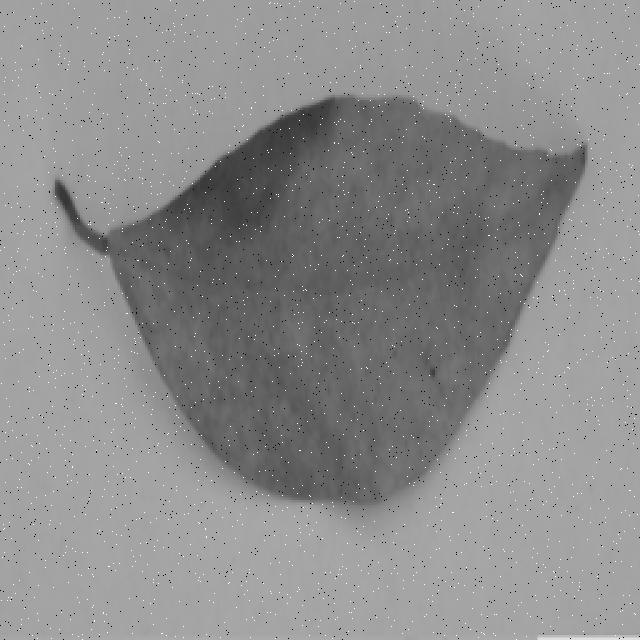blackspot: (31, 84, 600, 533)
